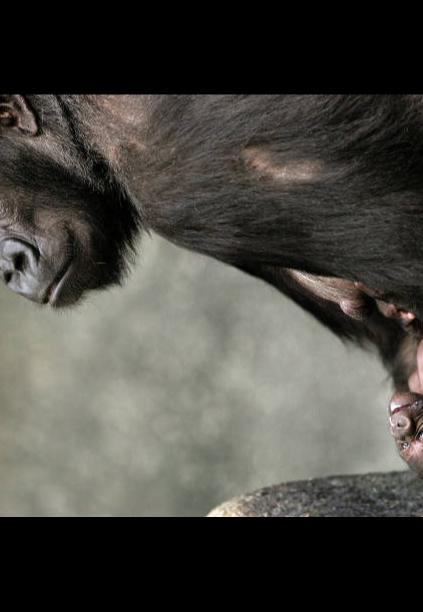gorille_Autres: (0, 96, 381, 510)
